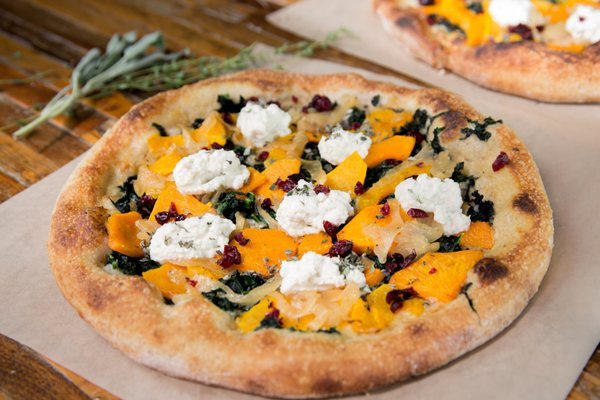curry: (14, 0, 599, 388)
sandwich: (57, 66, 552, 394), (371, 0, 600, 105)
